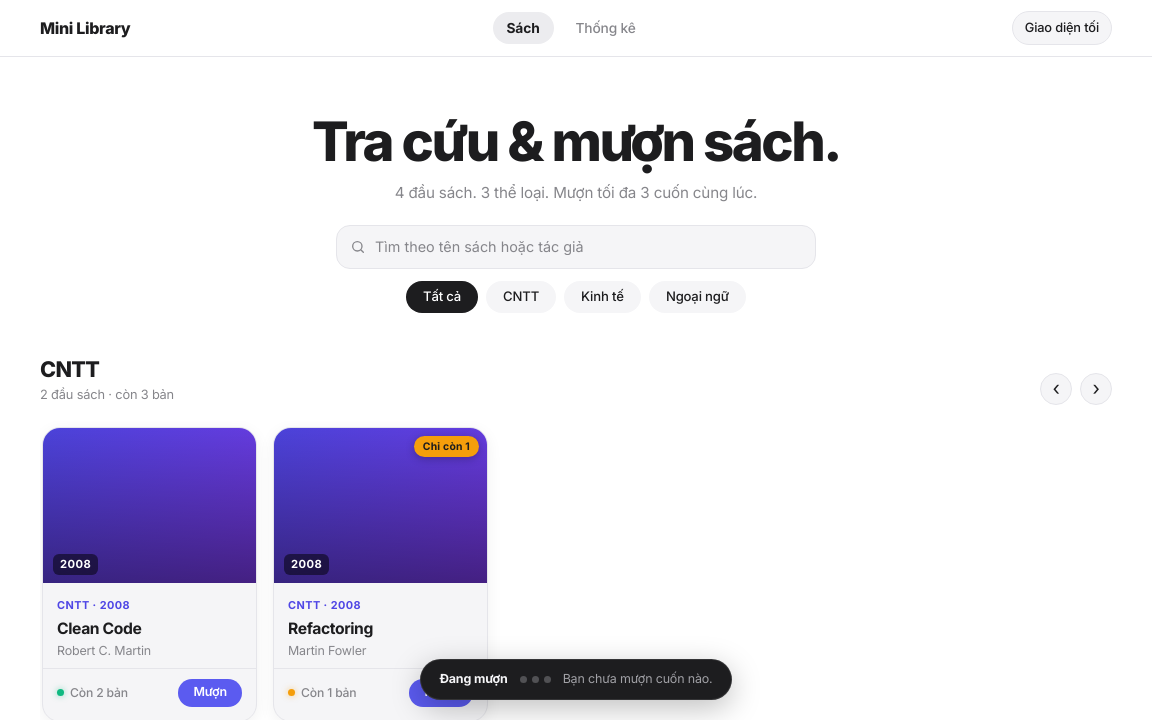
it: App (integration) › chuyển giao diện sáng / tối
Click the button "Giao diện tối" at {"x": 1062, "y": 28}, box [1012,11,1112,45]
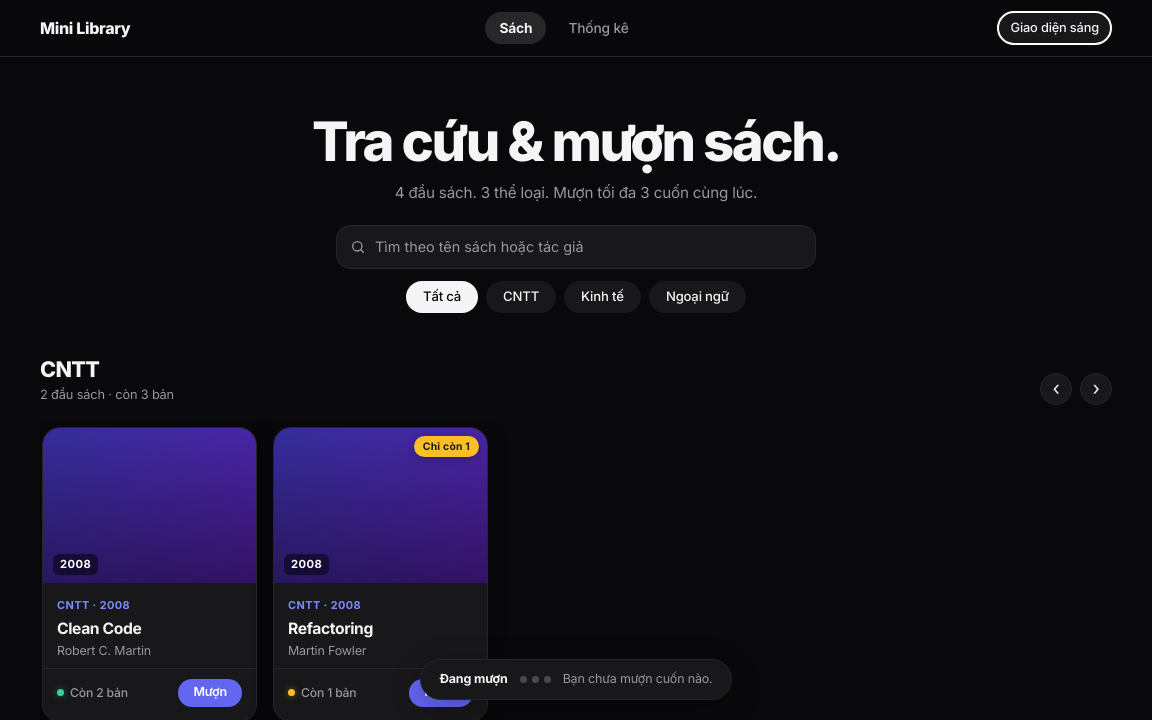
Expected: the button "Giao diện sáng" is shown, [998,11,1112,45]
